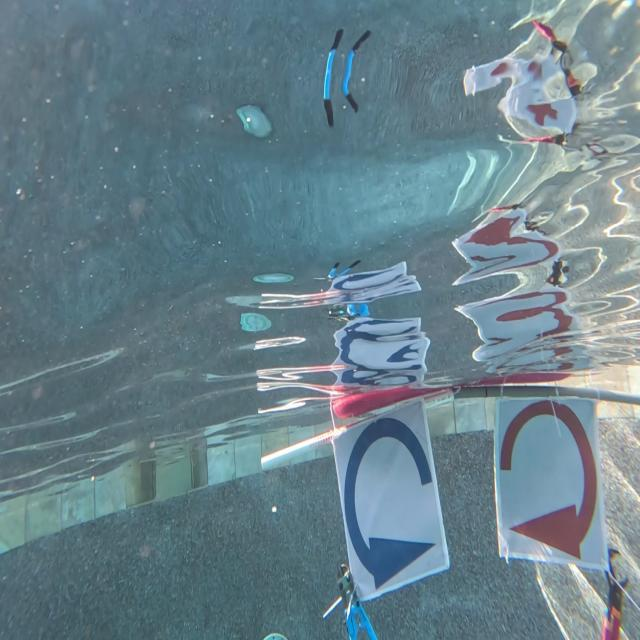blue_side: (328, 394, 449, 599)
red_side: (494, 390, 608, 565)
